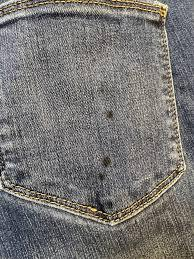ink: (92, 193, 112, 210), (101, 157, 113, 167), (106, 109, 114, 118)
